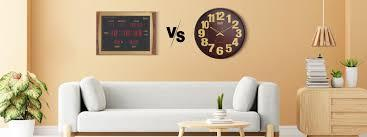Indoor Plant: (2, 71, 46, 136), (343, 58, 360, 88), (216, 94, 227, 119), (331, 72, 344, 89)
book: (306, 58, 329, 88)
clock: (194, 8, 246, 60)
lamp: (310, 0, 337, 48)
painting: (95, 10, 155, 54)
pillow: (82, 78, 106, 111), (234, 76, 257, 110)
sofa: (59, 80, 279, 137)
table: (298, 87, 367, 137), (178, 120, 250, 137)
vase: (206, 110, 235, 123), (346, 66, 358, 87), (332, 77, 343, 88)
